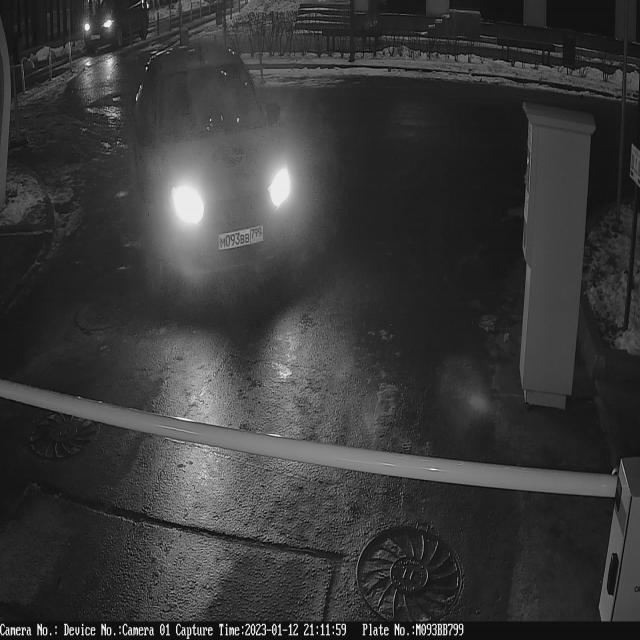car-plate-numbers: (219, 225, 267, 259)
